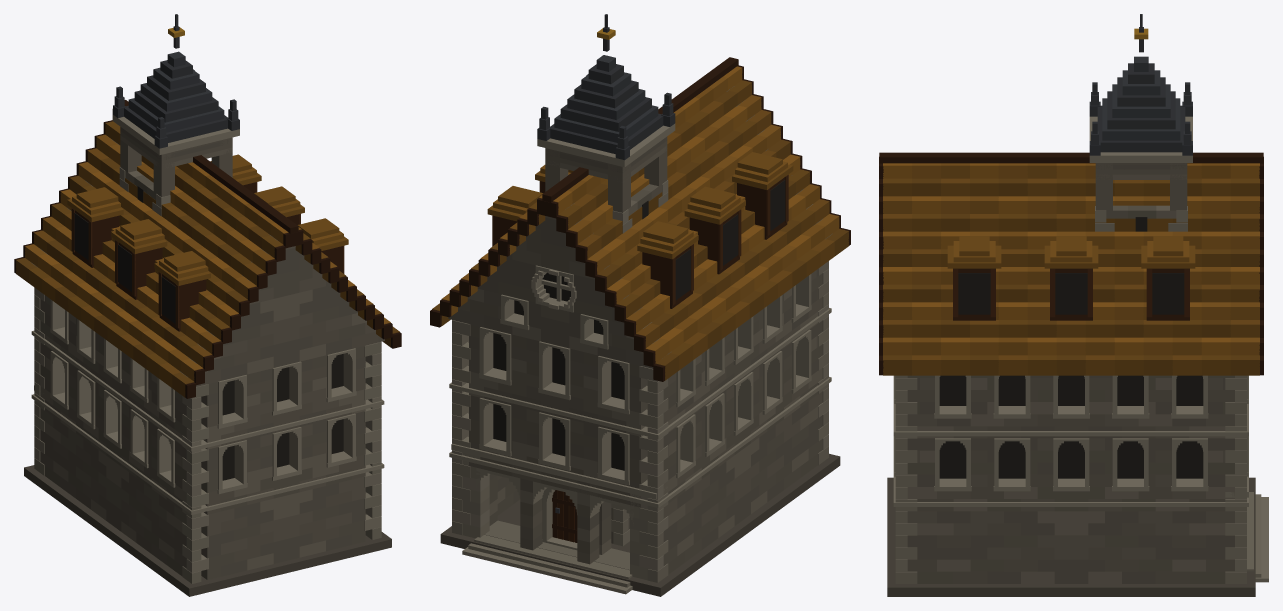
File: TownHall.glb
3 renders of one model, left to right at view 1: azimuth 30°, elevation 25°; view 2: azimuth 150°, elevation 25°; view 3: azimuth 270°, elevation 25°, orthographic. The views are drawn at different scales.
Visible parts, largest first — view 1: TownHall; view 2: TownHall, TownHallDoor; view 3: TownHall.
Part boxes in pixels (bbox=[...]): TownHall: bbox=[14, 14, 401, 596]; TownHall: bbox=[430, 14, 850, 596]; TownHallDoor: bbox=[552, 490, 577, 542]; TownHall: bbox=[879, 14, 1268, 596].
Bounding box in the file's own units: 10.24 × 21.62 × 14.49.
